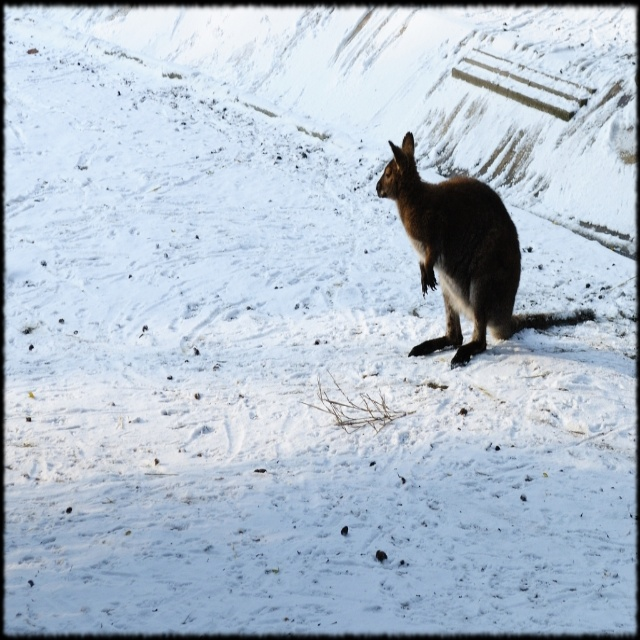Kangaroo: (377, 129, 594, 370)
